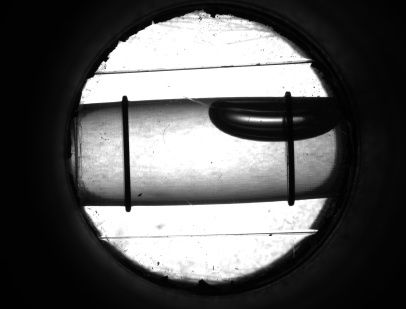line: (117, 111, 135, 191), (281, 147, 299, 188)
